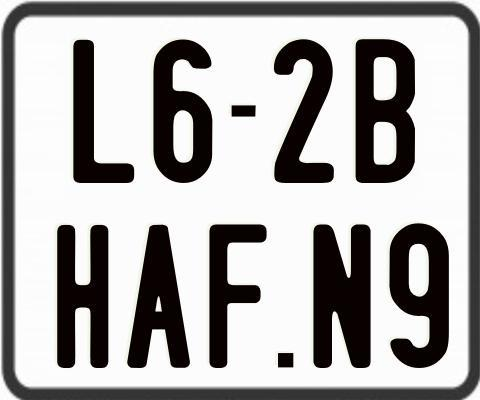2: (272, 36, 334, 183)
6: (151, 39, 212, 183)
9: (386, 221, 451, 366)
A: (127, 225, 194, 368)
B: (356, 36, 418, 184)
F: (209, 223, 267, 369)
H: (54, 223, 107, 370)
L: (70, 39, 134, 186)
N: (310, 223, 371, 370)
